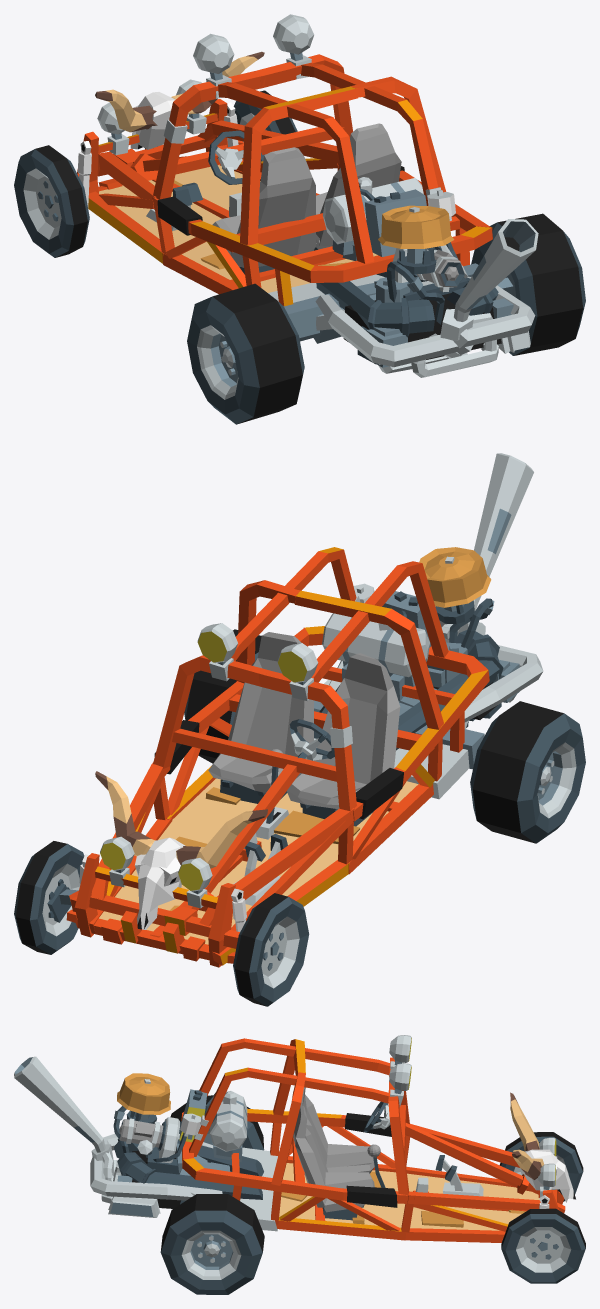
The model's file is Buggy.glb.
The picture shows the model from 3 angles, top to bottom: view 1: azimuth 30°, elevation 25°; view 2: azimuth 150°, elevation 25°; view 3: azimuth 270°, elevation 25°; orthographic projection. The views are drawn at different scales.
Parts seen in each view (by area): view 1: group1351783712, Roue_ARG, Roue_ARD, Roue_AVG, group1586929722, group237616497, group610141389, group1384551819, group1522625764, group2069554521, group1345467828, group407306559 (+25 smaller); view 2: group1351783712, Roue_ARG, group1586929722, group407306559, Roue_AVG, group2069554521, Roue_AVD, group1345467828, group1384551819, group237616497, group610141389, group1522625764 (+27 smaller); view 3: group1351783712, Roue_ARD, Roue_AVD, group1345467828, group407306559, group195980357, group1522625764, group2069554521, group237616497, group683697160, group1586929722, group2059694420 (+25 smaller).
Part boxes in pixels (x1,y1,x2,y2): group1351783712: (315, 189, 538, 377); Roue_ARG: (187, 283, 304, 424); Roue_ARD: (471, 213, 585, 355); Roue_AVG: (14, 145, 89, 257); group1586929722: (212, 147, 316, 274); group237616497: (240, 76, 446, 245); group610141389: (153, 197, 492, 282); group1384551819: (152, 54, 352, 199); group1522625764: (218, 82, 374, 263); group2069554521: (95, 51, 264, 149); group1345467828: (99, 165, 260, 279); group407306559: (314, 123, 401, 250); group1351783712: (314, 453, 543, 750); Roue_ARG: (470, 701, 585, 843); group1586929722: (286, 653, 400, 826); group407306559: (208, 632, 313, 803); Roue_AVG: (233, 893, 309, 1006); group2069554521: (95, 771, 267, 929); Roue_AVD: (14, 841, 84, 954); group1345467828: (99, 778, 388, 944); group1384551819: (153, 655, 356, 814); group237616497: (236, 580, 443, 729); group610141389: (305, 626, 489, 821); group1522625764: (311, 561, 448, 682); group1351783712: (14, 1056, 263, 1217); Roue_ARD: (160, 1194, 264, 1294); Roue_AVD: (501, 1208, 585, 1283); group1345467828: (325, 1170, 539, 1230); group407306559: (293, 1106, 374, 1220); group195980357: (189, 1067, 390, 1156); group1522625764: (199, 1038, 390, 1096); group2069554521: (510, 1092, 575, 1202); group237616497: (271, 1039, 305, 1185); group683697160: (195, 1168, 408, 1203); group1586929722: (300, 1087, 374, 1173); group2059694420: (209, 1091, 247, 1151).
Size of the model in its own units: 7.72 by 5.65 by 15.08.
